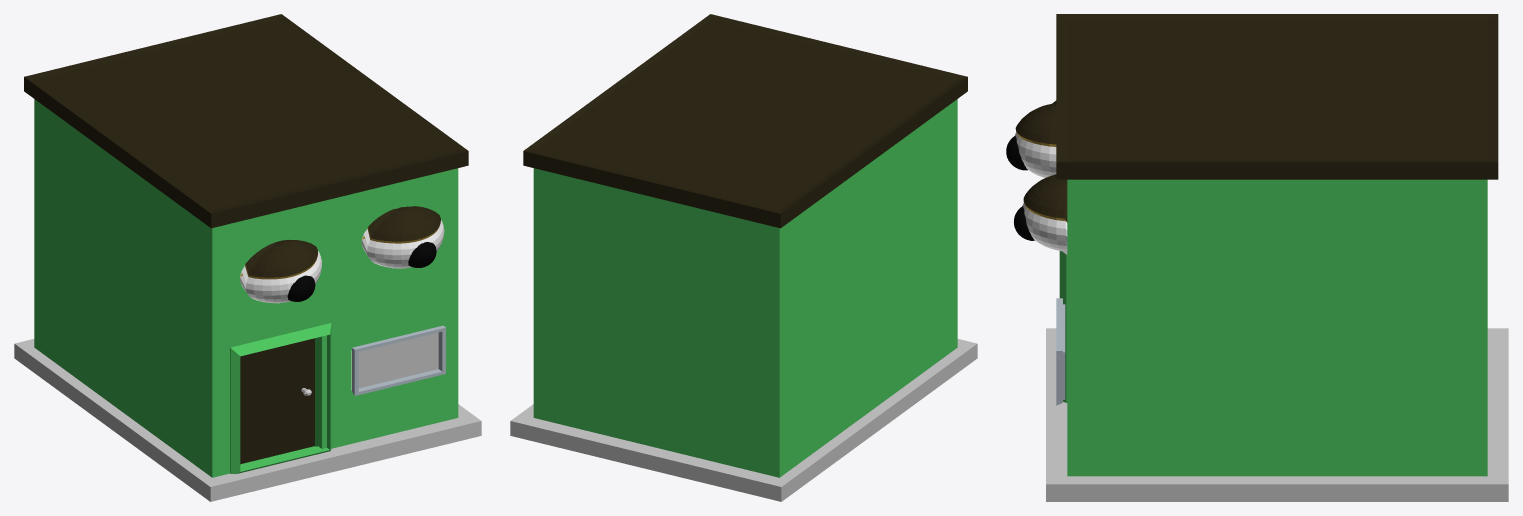
File: building_sm_normal.obj
3 views of the same model, side by side, from view 1: azimuth 30°, elevation 25°; view 2: azimuth 150°, elevation 25°; view 3: azimuth 270°, elevation 25° (orthographic). The views are drawn at different scales.
Visible parts, largest first — view 1: Building_sm_normal; view 2: Building_sm_normal; view 3: Building_sm_normal.
Boxes of the visible parts, bbox=[...] form: Building_sm_normal: bbox=[14, 14, 481, 501]; Building_sm_normal: bbox=[510, 14, 977, 501]; Building_sm_normal: bbox=[1006, 14, 1508, 501].
Size of the model in its own units: 1.76 by 1.76 by 2.39.
